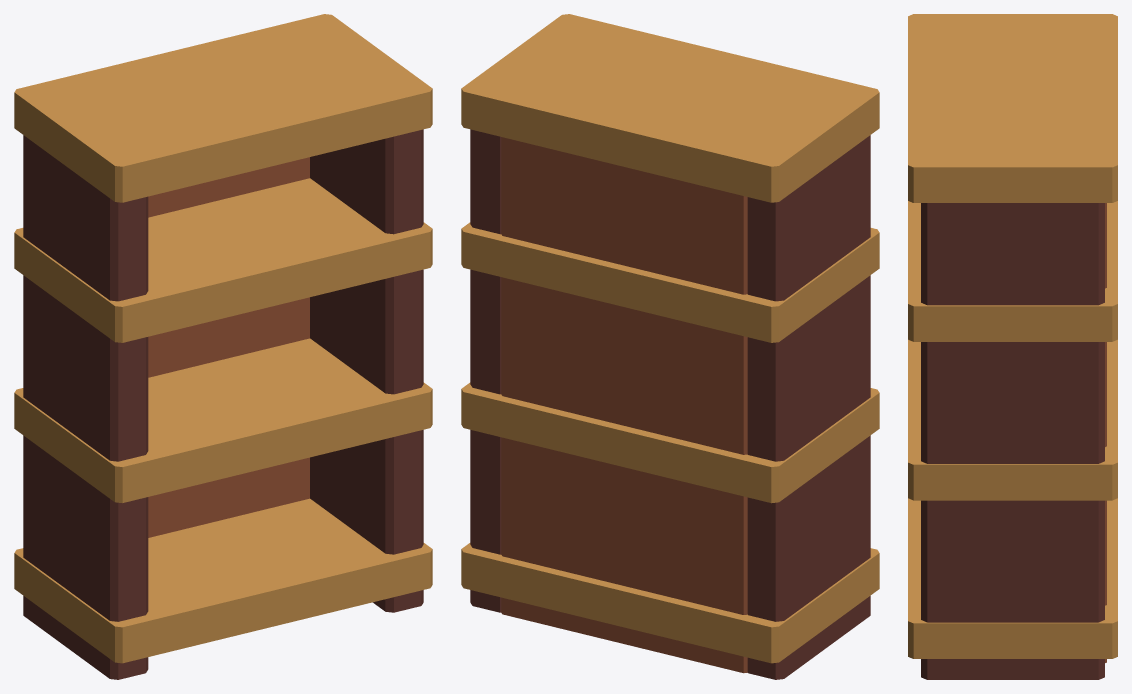
File: ShopDisplay.fbx
3 renders of one model, left to right at view 1: azimuth 30°, elevation 25°; view 2: azimuth 150°, elevation 25°; view 3: azimuth 270°, elevation 25°, orthographic.
Parts seen in each view (by area): view 1: ShopDisplay.005; view 2: ShopDisplay.005; view 3: ShopDisplay.005.
Boxes of the visible parts, x1=… form: ShopDisplay.005: x1=14, y1=14, x2=432, y2=679; ShopDisplay.005: x1=461, y1=14, x2=879, y2=679; ShopDisplay.005: x1=908, y1=14, x2=1117, y2=679.
Size of the model in its own units: 83 by 130 by 48.
